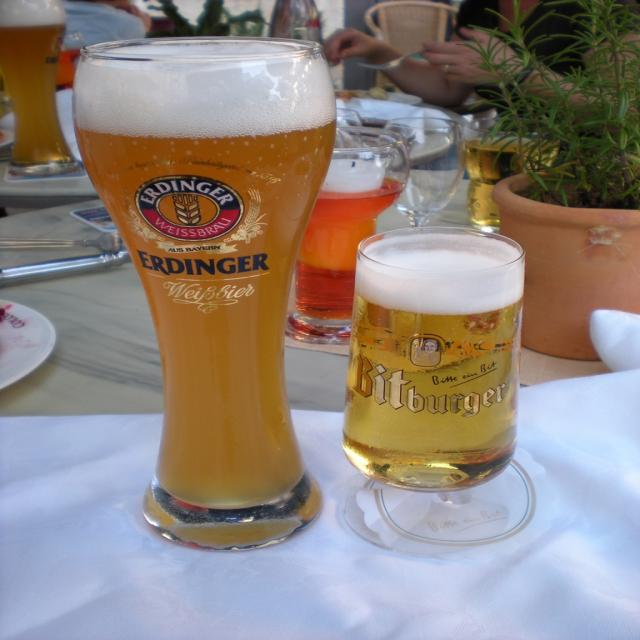erdinger: (98, 155, 283, 284)
